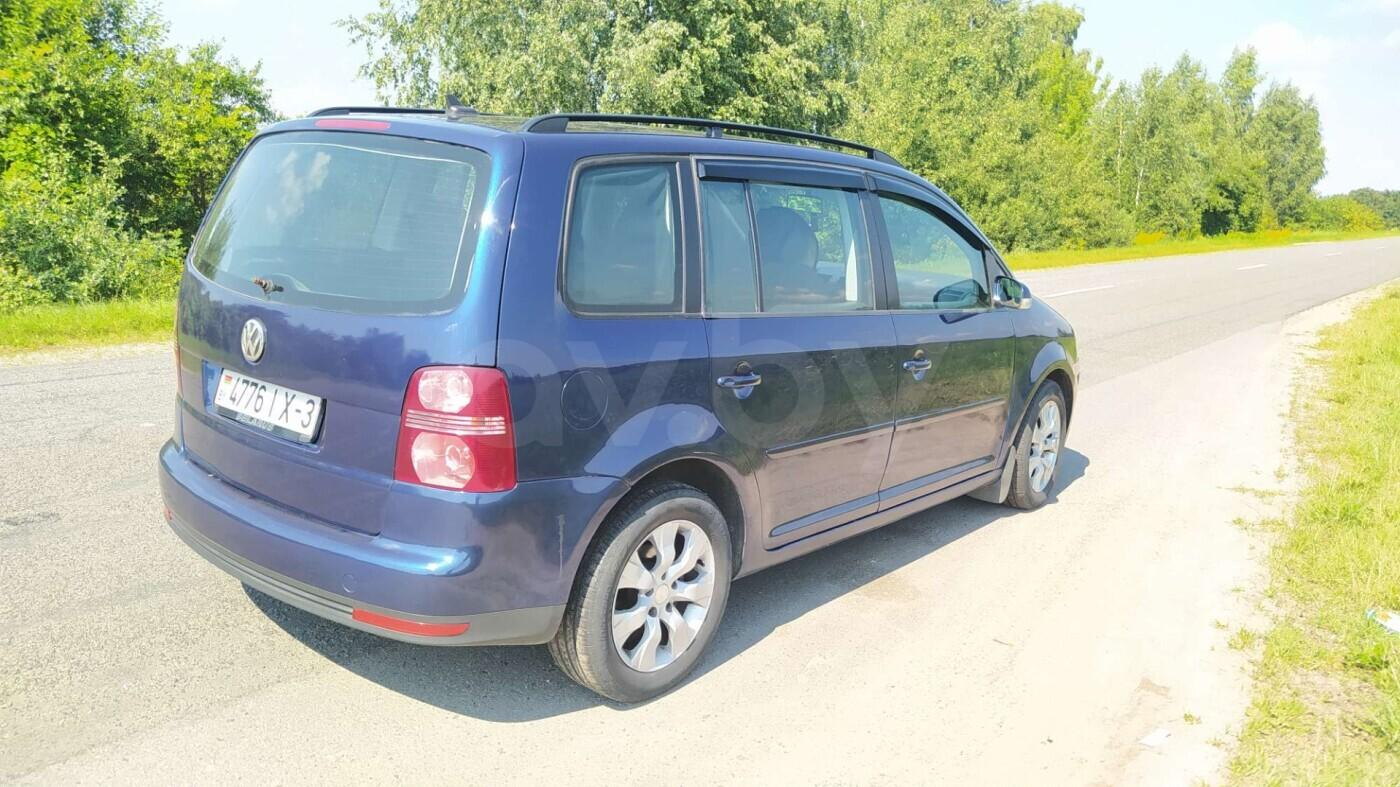Touran_2006-2010: (150, 107, 1076, 700)
